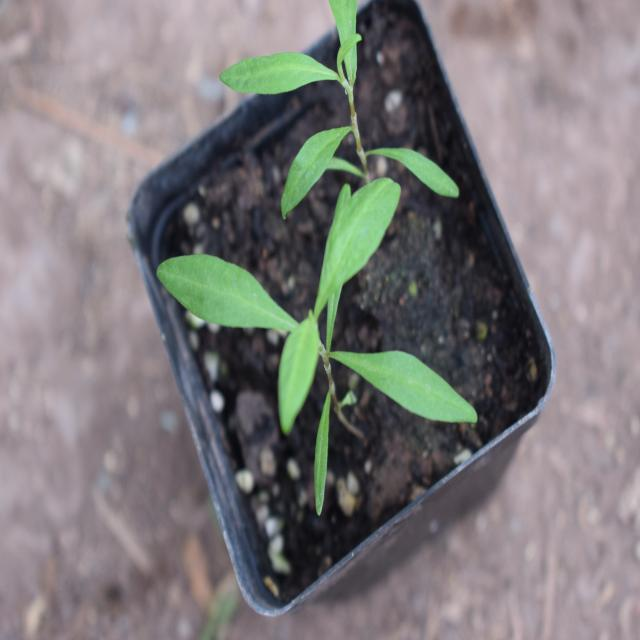white_smart_weed: (138, 177, 526, 522)
